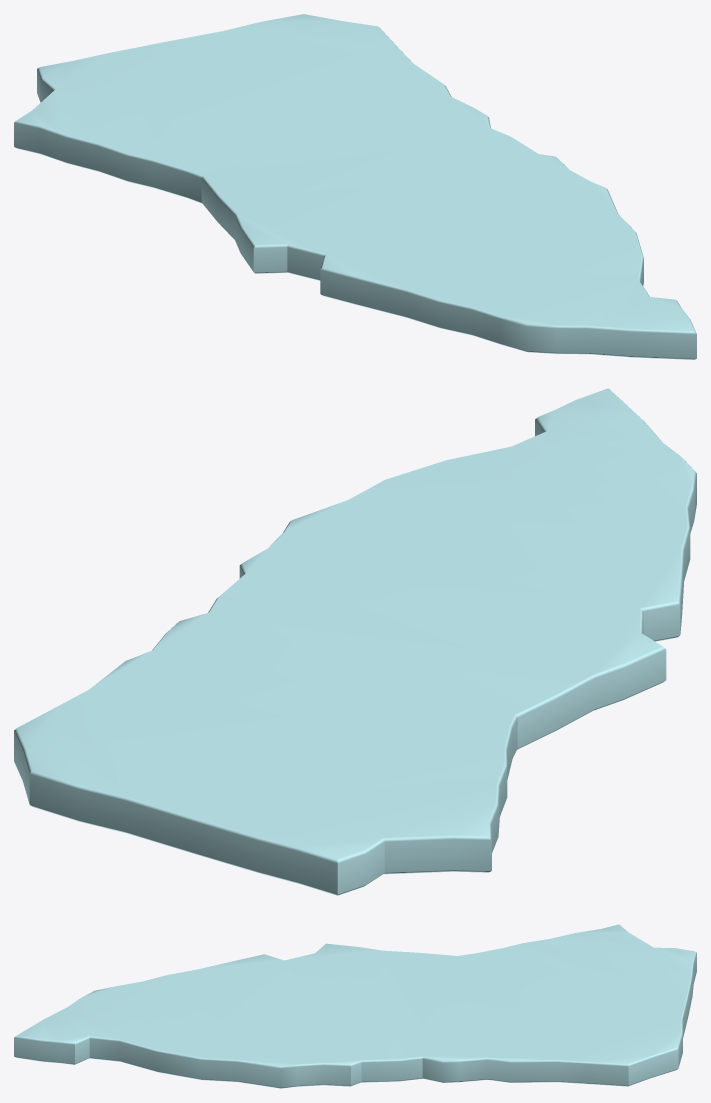
The model's file is ice_floe_large_005.fbx.
The picture shows the model from 3 angles, top to bottom: view 1: azimuth 30°, elevation 25°; view 2: azimuth 150°, elevation 25°; view 3: azimuth 270°, elevation 25°; orthographic projection. The views are drawn at different scales.
Visible parts, largest first — view 1: ice_floe_large_005; view 2: ice_floe_large_005; view 3: ice_floe_large_005.
Part boxes in pixels (x1,y1,x2,y2): ice_floe_large_005: (14,14,696,359); ice_floe_large_005: (14,388,696,895); ice_floe_large_005: (14,924,696,1088).
Bounding box in the file's own units: 1194 × 2399 × 87.55.
